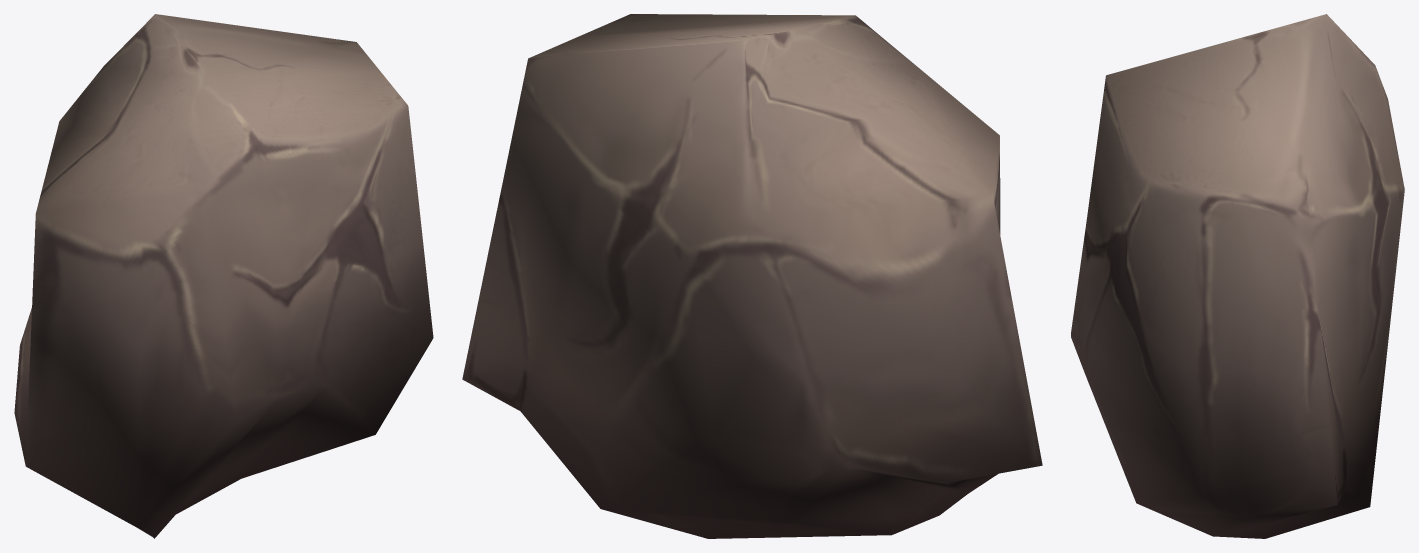
The model's file is Rock5_Low.fbx.
The picture shows the model from 3 angles, left to right: view 1: azimuth 30°, elevation 25°; view 2: azimuth 150°, elevation 25°; view 3: azimuth 270°, elevation 25°; orthographic projection. The views are drawn at different scales.
Parts seen in each view (by area): view 1: Rock5_Low.001; view 2: Rock5_Low.001; view 3: Rock5_Low.001.
Part boxes in pixels (box(x1,y1,x2,y2)): Rock5_Low.001: box(14, 14, 433, 538); Rock5_Low.001: box(462, 14, 1042, 538); Rock5_Low.001: box(1071, 14, 1404, 538).
Size of the model in its own units: 4.25 by 4.36 by 2.67.
Materials: 1 (1 with a texture image).
